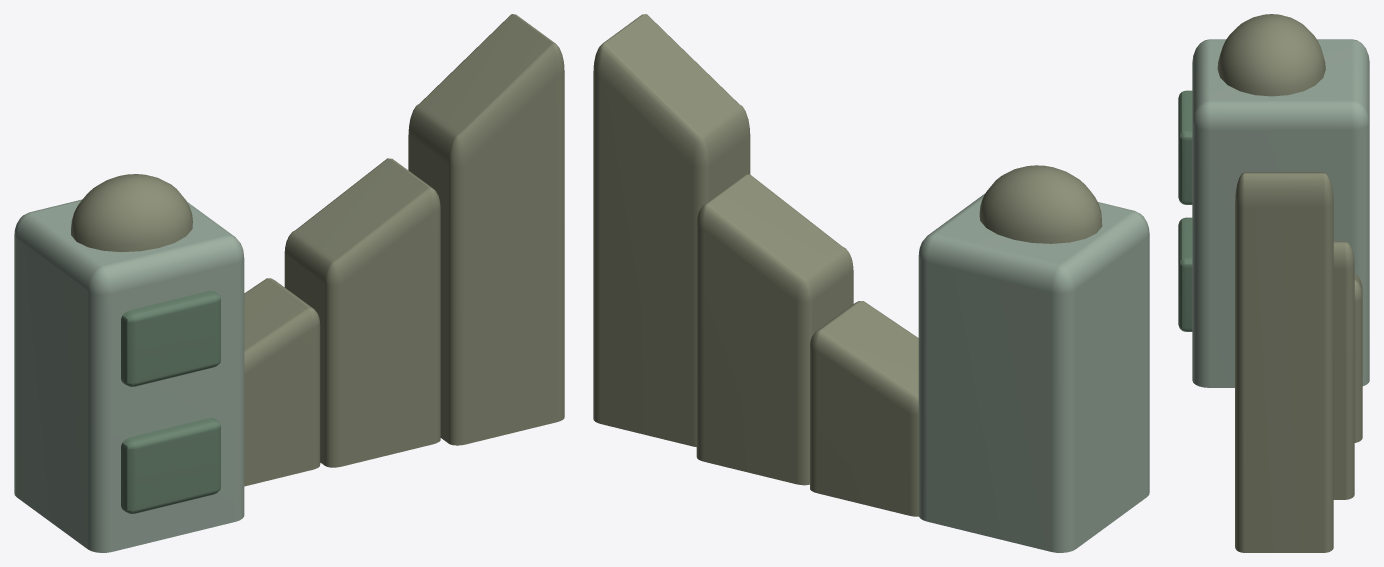
3 renders of one model, left to right at view 1: azimuth 30°, elevation 25°; view 2: azimuth 150°, elevation 25°; view 3: azimuth 270°, elevation 25°, orthographic.
Visible parts, largest first — view 1: pCube20; view 2: pCube20; view 3: pCube20.
Part boxes in pixels (bbox=[...]): pCube20: bbox=[14, 14, 564, 552]; pCube20: bbox=[593, 14, 1149, 552]; pCube20: bbox=[1178, 14, 1369, 552].
Bounding box in the file's own units: 67.17 × 49.16 × 22.61.
